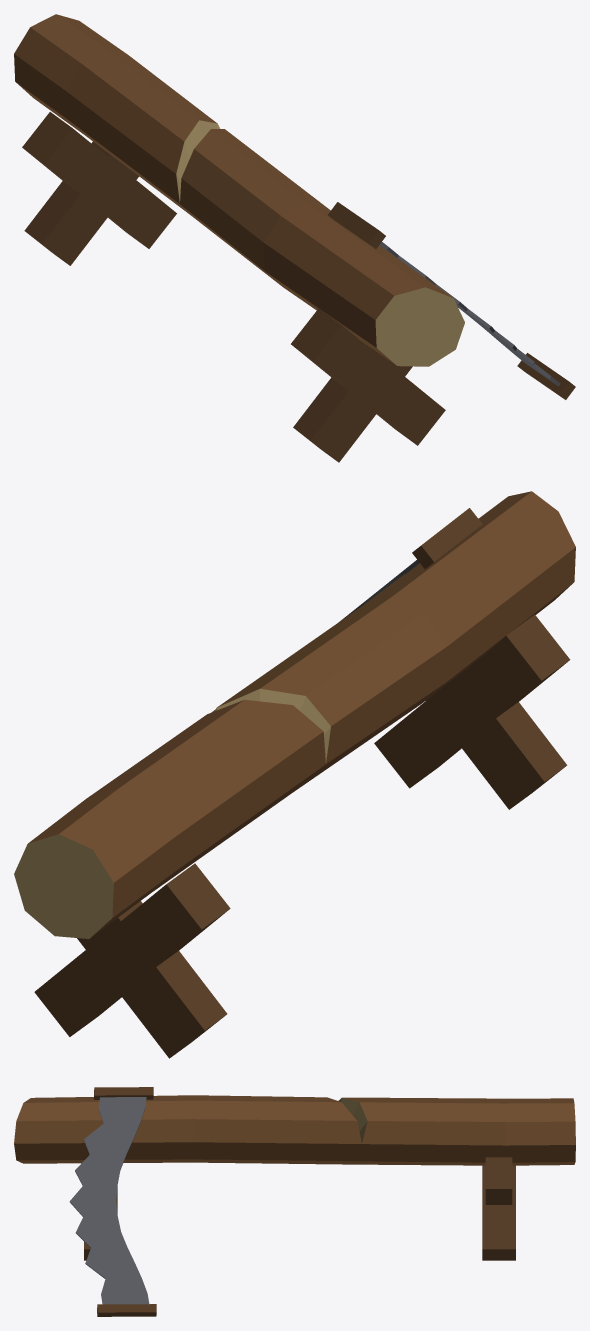
File: Sawmill_saw.fbx
3 renders of one model, top to bottom at view 1: azimuth 30°, elevation 25°; view 2: azimuth 150°, elevation 25°; view 3: azimuth 270°, elevation 25°, orthographic. The views are drawn at different scales.
Parts seen in each view (by area): view 1: Sawmill_saw; view 2: Sawmill_saw; view 3: Sawmill_saw.
Part boxes in pixels (box(x1,y1,x2,y2)): Sawmill_saw: box(14, 14, 575, 462); Sawmill_saw: box(14, 491, 575, 1058); Sawmill_saw: box(14, 1087, 575, 1316).
Size of the model in its own units: 70.53 by 54.15 by 170.
